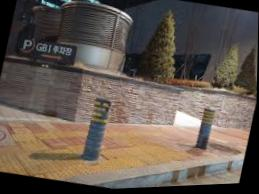Animal: (70, 94, 128, 155), (189, 99, 222, 160)
